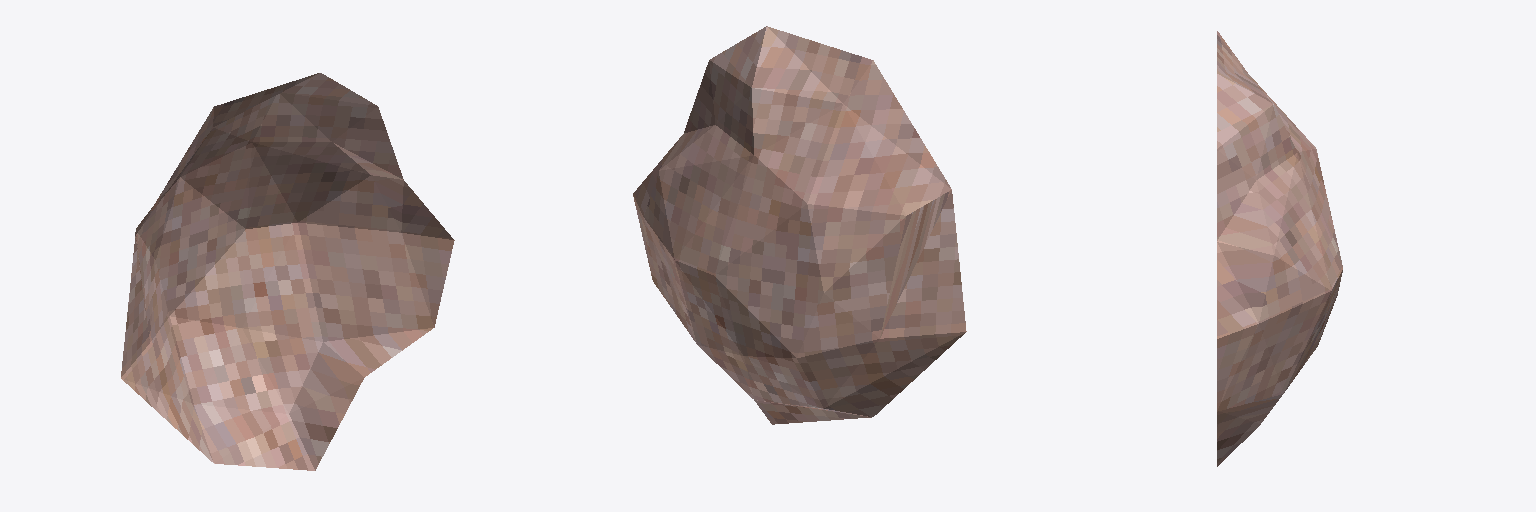
The picture shows the model from 3 angles: view 1: azimuth 30°, elevation 25°; view 2: azimuth 150°, elevation 25°; view 3: azimuth 270°, elevation 25°; orthographic projection.
Parts seen in each view (by area): view 1: digda; view 2: digda; view 3: digda.
Part boxes in pixels (left/top/right/bottom): digda: left=121, top=73, right=454, bottom=470; digda: left=633, top=26, right=966, bottom=424; digda: left=1217, top=31, right=1342, bottom=466.
Size of the model in its own units: 1.58 by 1.8 by 0.5198.
1 materials, 1 textured.